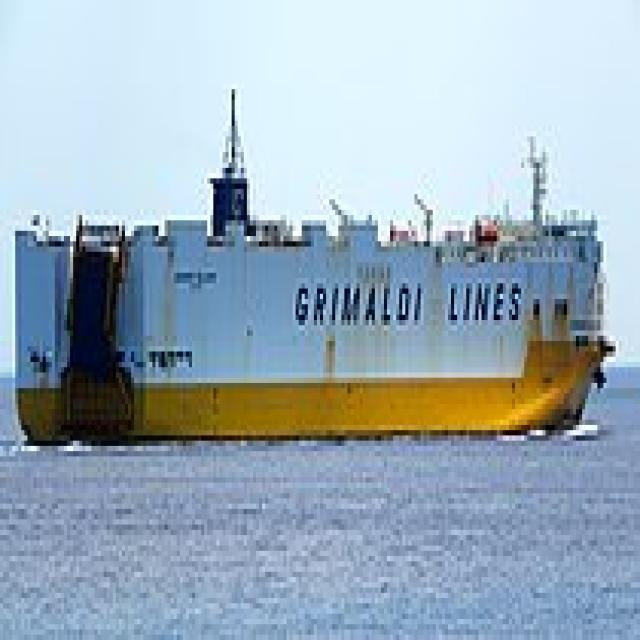Carrier: (9, 73, 616, 446)
